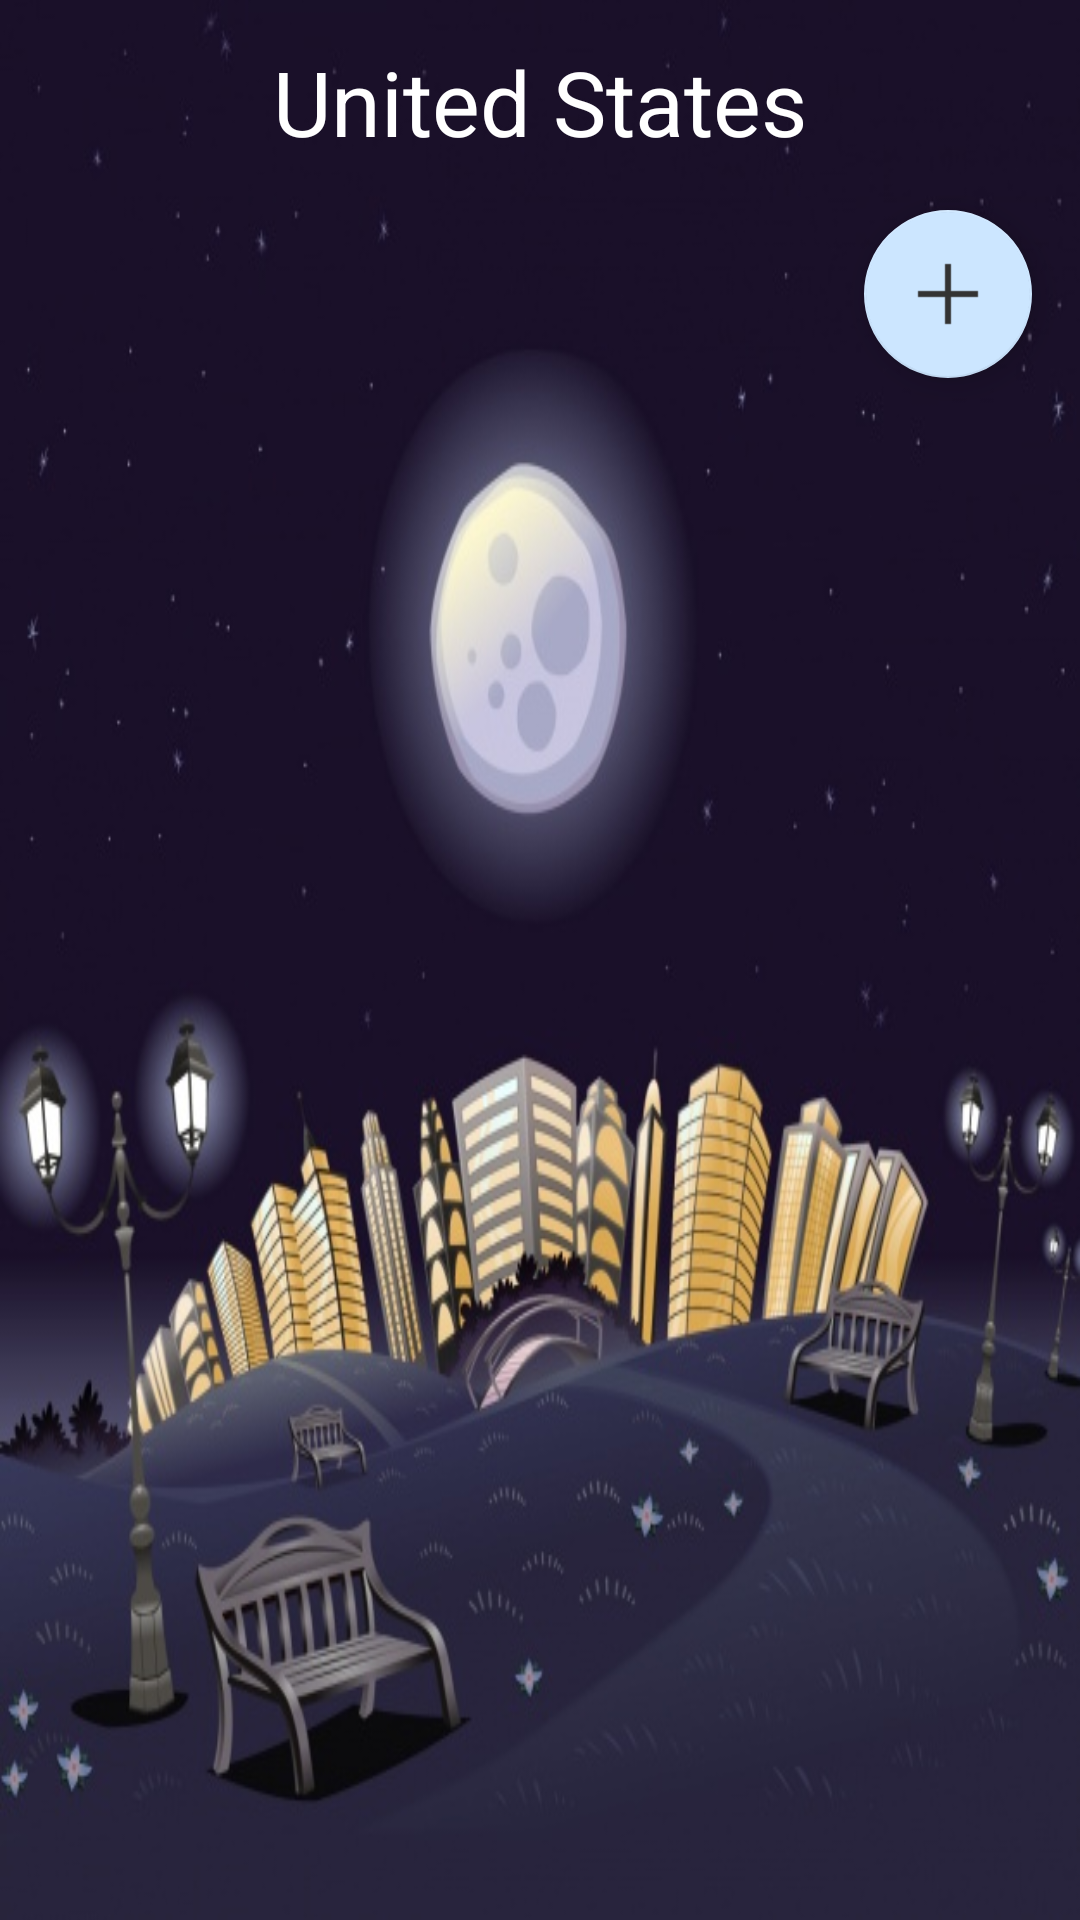

Where icons sit on this 1080×1920 app screen, as (x1, y1, x2, y2):
add: (864, 210, 1032, 378)
